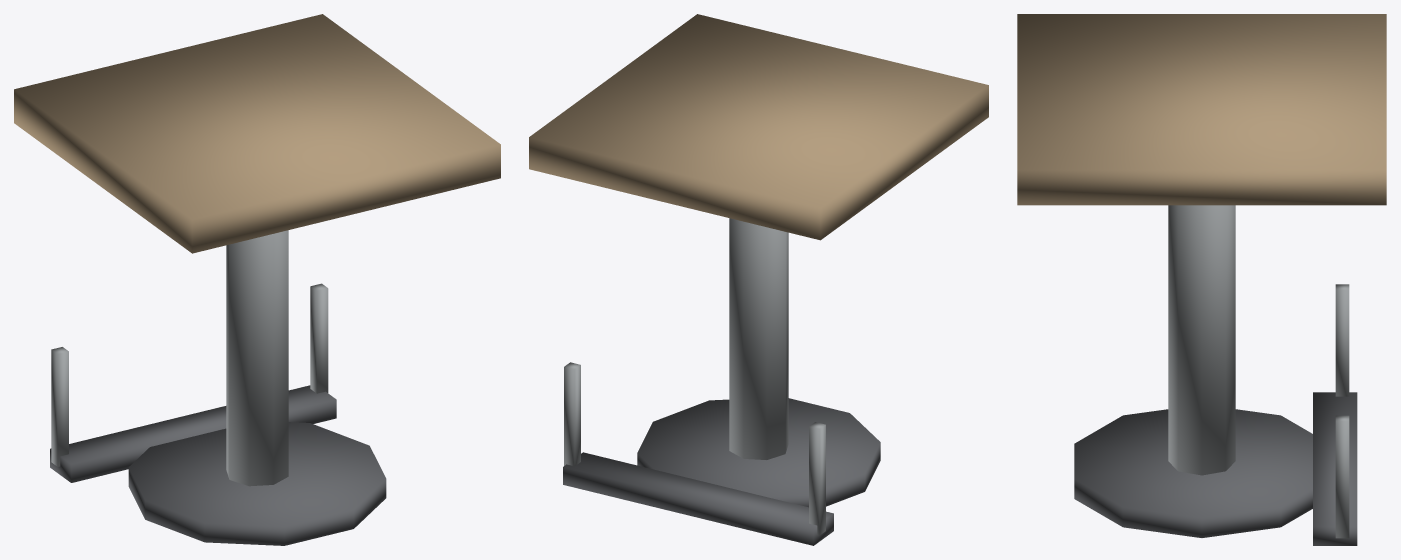
Rendered from cafe_pedestal_table__reinforced.glb.
The picture shows the model from 3 angles, left to right: view 1: azimuth 30°, elevation 25°; view 2: azimuth 150°, elevation 25°; view 3: azimuth 270°, elevation 25°; orthographic projection. The views are drawn at different scales.
Visible parts, largest first — view 1: world; view 2: world; view 3: world.
Part boxes in pixels (bbox=[...]): world: bbox=[14, 14, 500, 545]; world: bbox=[529, 14, 988, 545]; world: bbox=[1017, 14, 1386, 545].
Size of the model in its own units: 0.6798 by 0.7905 by 0.6798.
